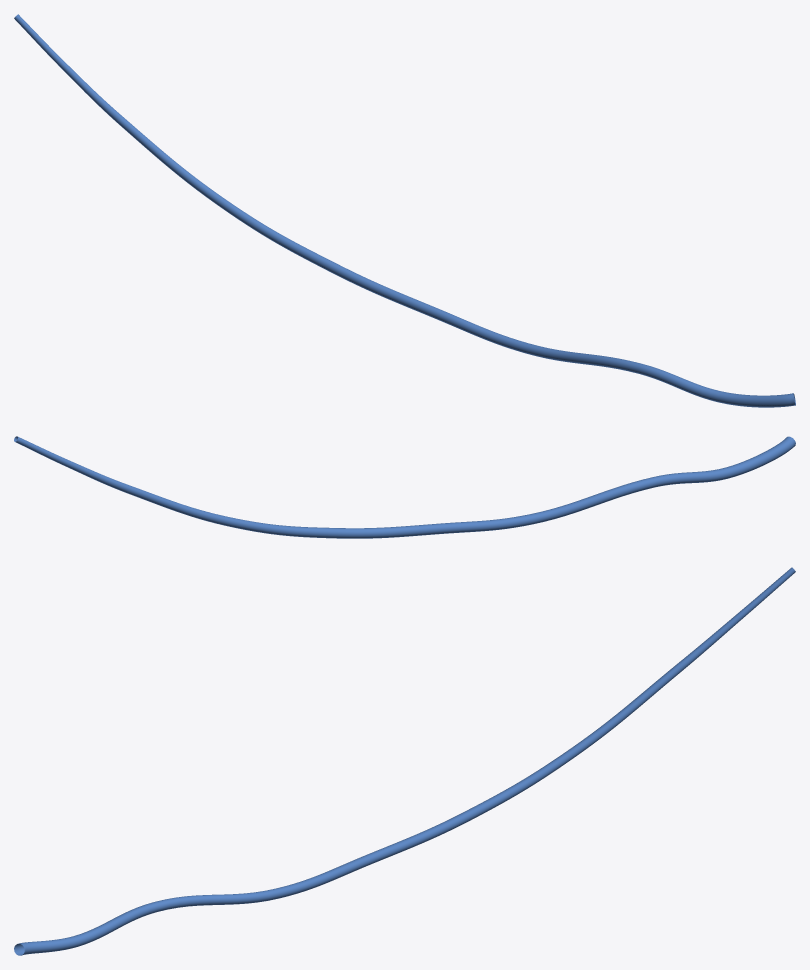
3 views of the same model, one above another, from view 1: azimuth 90°, elevation 25°; view 2: azimuth 150°, elevation 25°; view 3: azimuth 330°, elevation 25° (orthographic).
Visible parts, largest first — view 1: 左侧肌膈静脉; view 2: 左侧肌膈静脉; view 3: 左侧肌膈静脉.
Boxes of the visible parts, x1,y1,x2,y2 form: 左侧肌膈静脉: (14,14,795,407); 左侧肌膈静脉: (14,436,795,538); 左侧肌膈静脉: (14,567,795,955).
Size of the model in its own units: 0.1402 by 0.071 by 0.2389.
